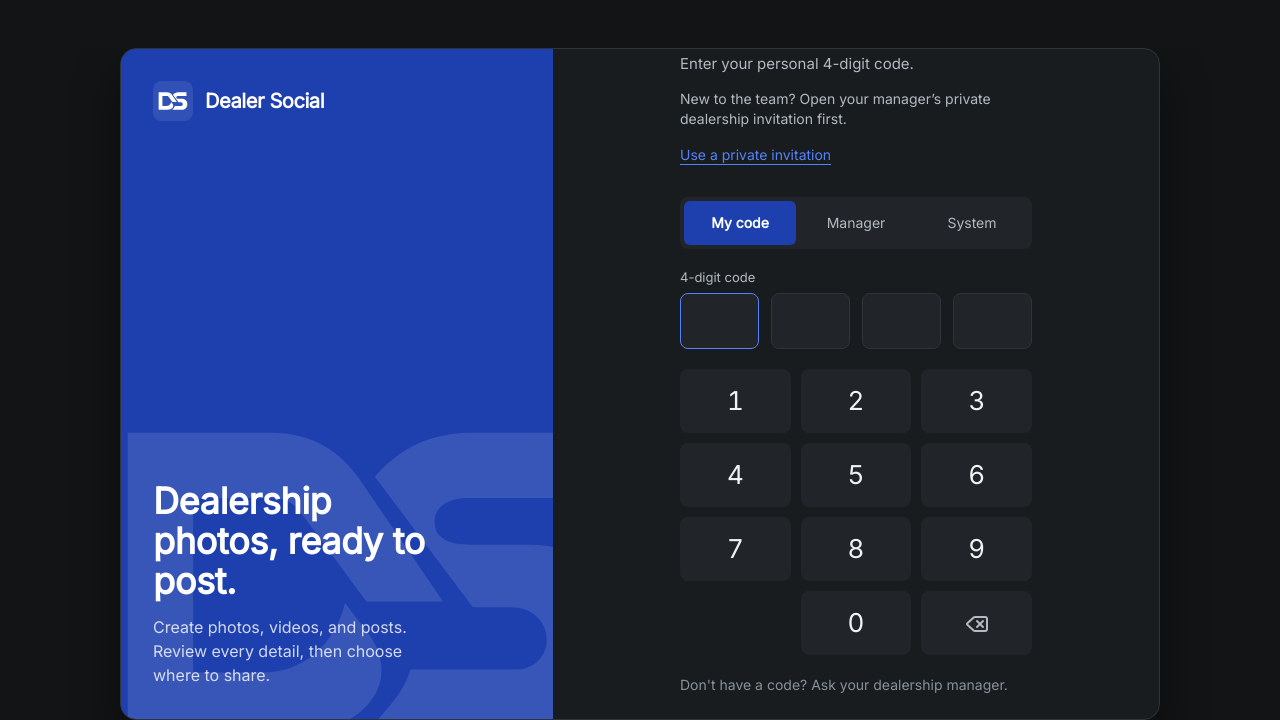
Test: risk-triggered sign-in UX › renders the managed challenge only when the backend requests it
(page scrolled)
Expected: the heading "Security check" is not shown
Click the button "1".
click(735, 401)  # box x1=680 y1=369 x2=791 y2=433
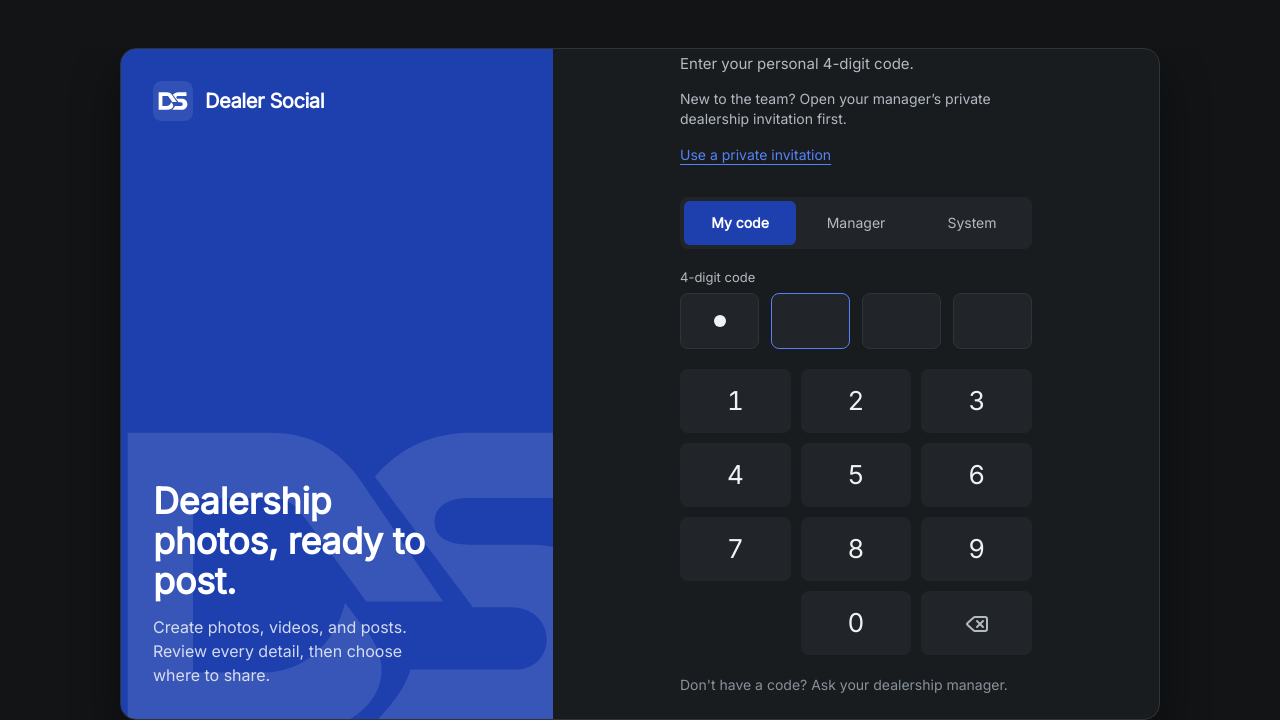
Click the button "2".
click(856, 401)  # box x1=801 y1=369 x2=911 y2=433
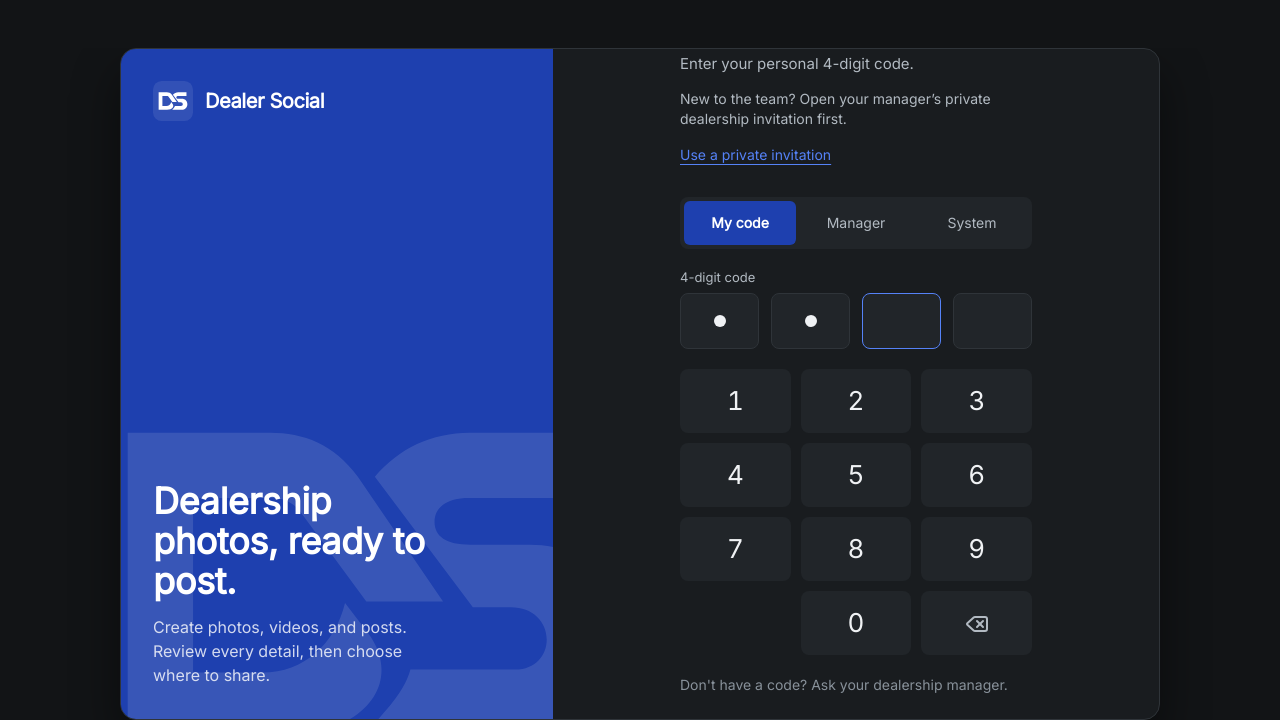
Click the button "3".
click(977, 401)  # box x1=921 y1=369 x2=1032 y2=433
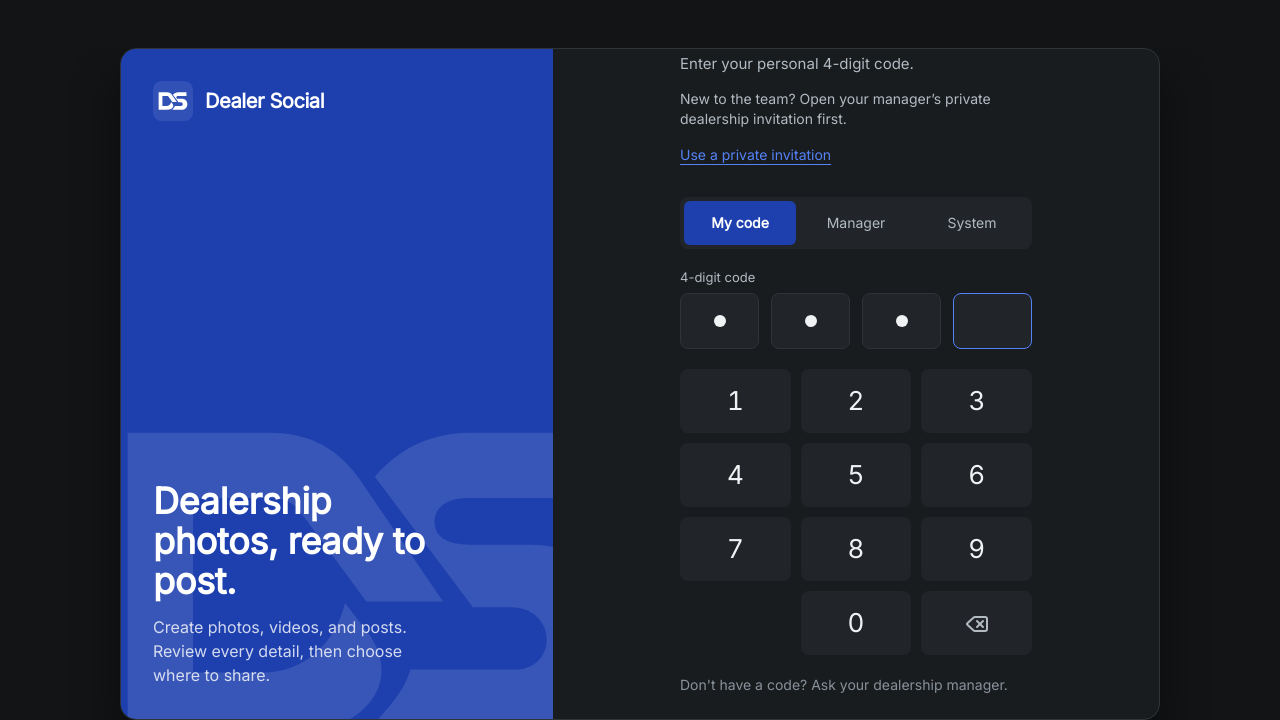
Click the button "4".
click(735, 475)  # box x1=680 y1=443 x2=791 y2=507
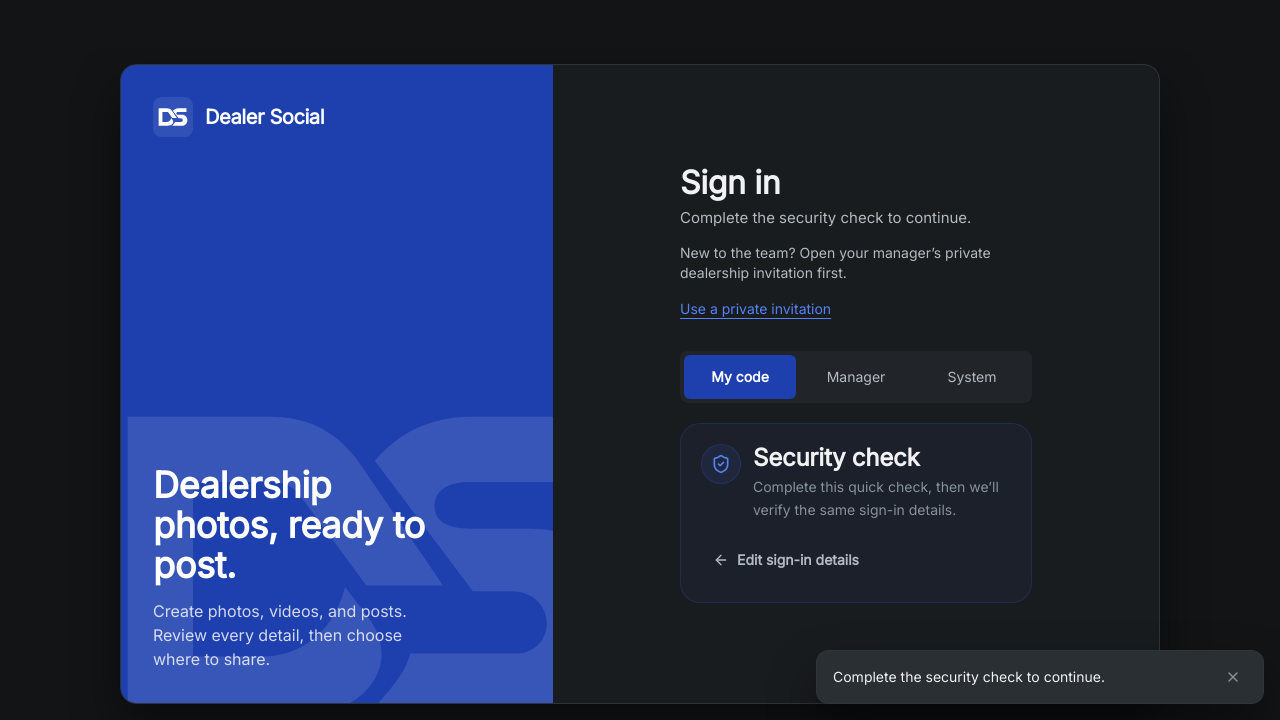
Expected: the heading "Security check" is shown, x1=753 y1=443 x2=919 y2=472
